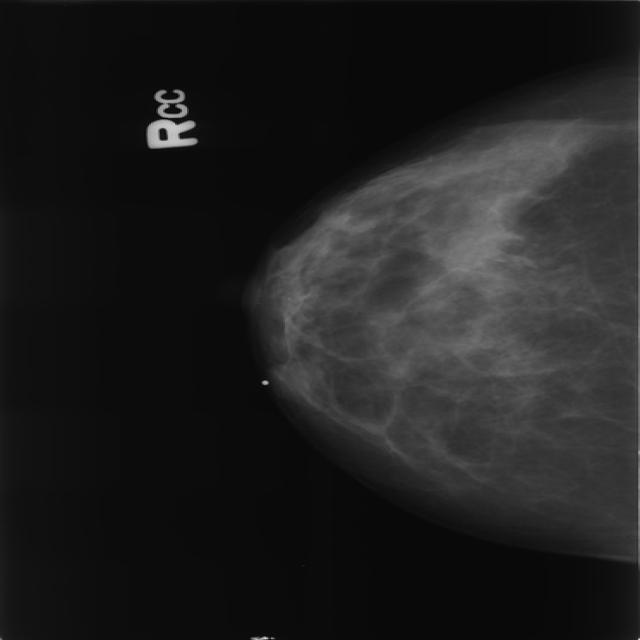tumour: (276, 357, 319, 394)
